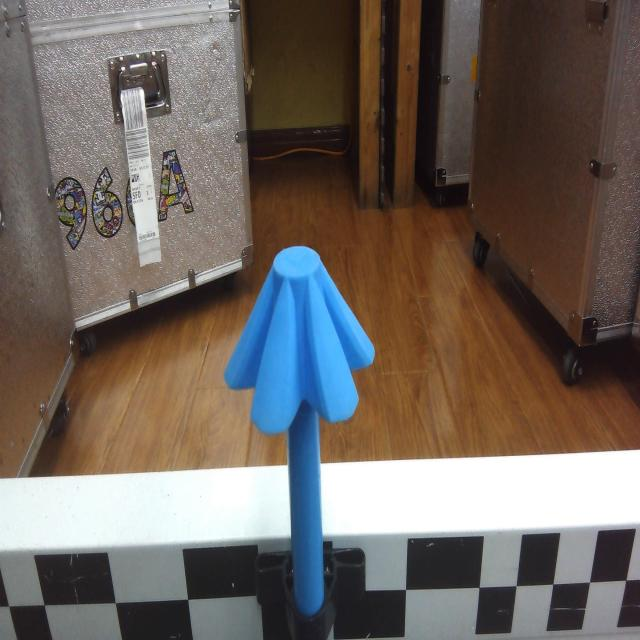zblue-Stake-Head: (224, 246, 375, 432)
